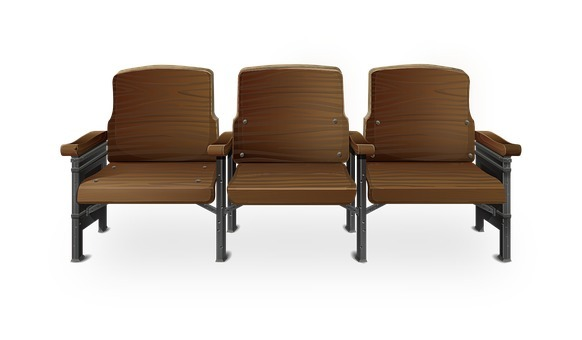chair: (56, 62, 236, 266), (348, 63, 527, 264), (205, 62, 373, 263)
